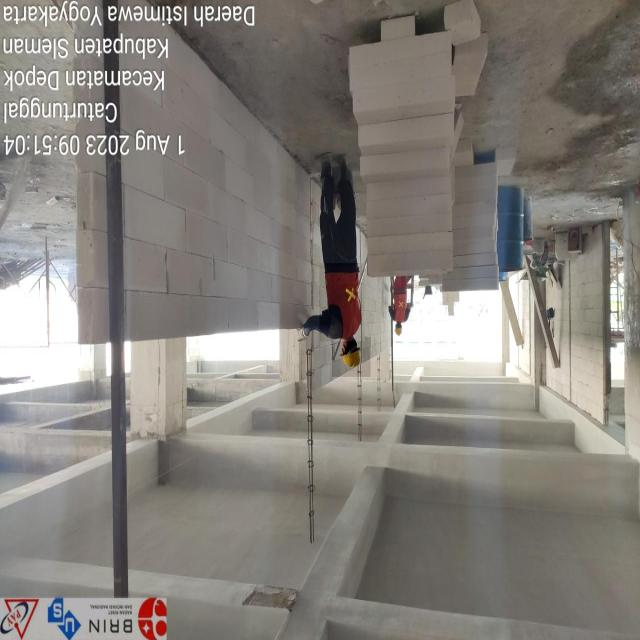Helmet: (332, 337, 370, 377), (388, 318, 410, 350)
Safety Vest: (320, 263, 364, 341), (389, 284, 414, 324)
